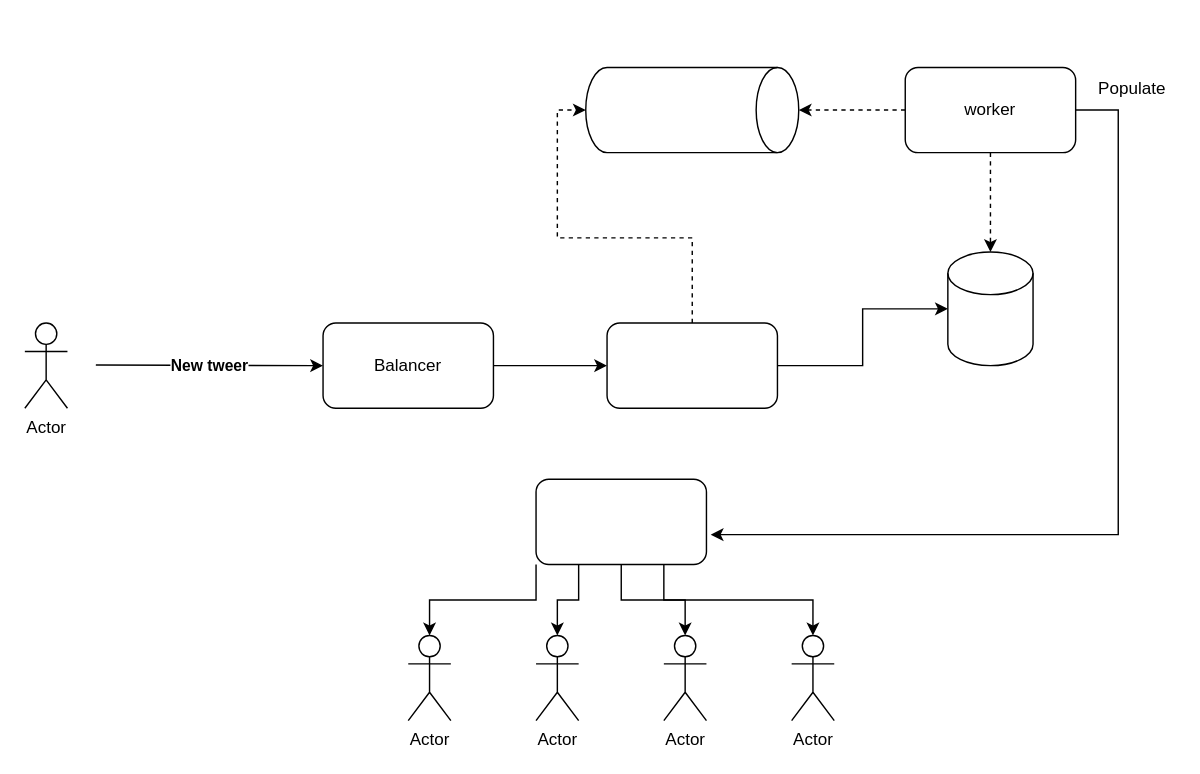
Some shapes in this 1200 by 774 pixel diagram are drawn without their labels. Here are the shapes that lost their labels. From the top down, the box of each, then its label:
(584, 66, 799, 153): Global Queue
(946, 251, 1033, 366): DB
(606, 322, 777, 408): API
(535, 478, 706, 564): ws server
